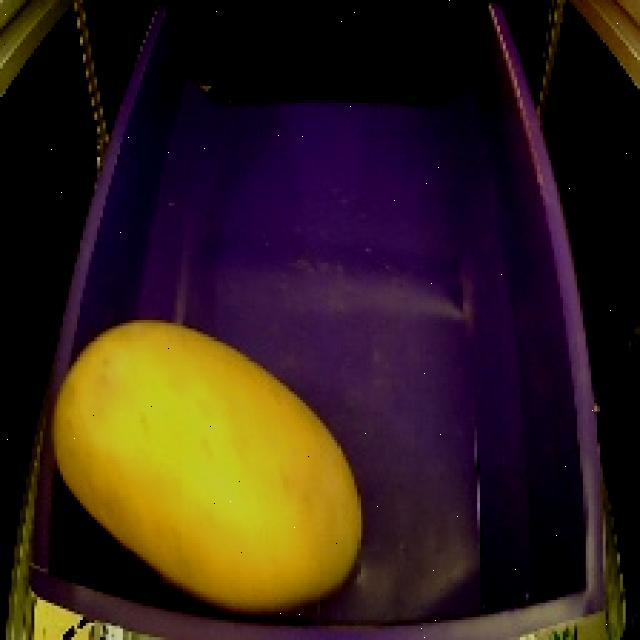full_potato: (36, 306, 376, 623)
